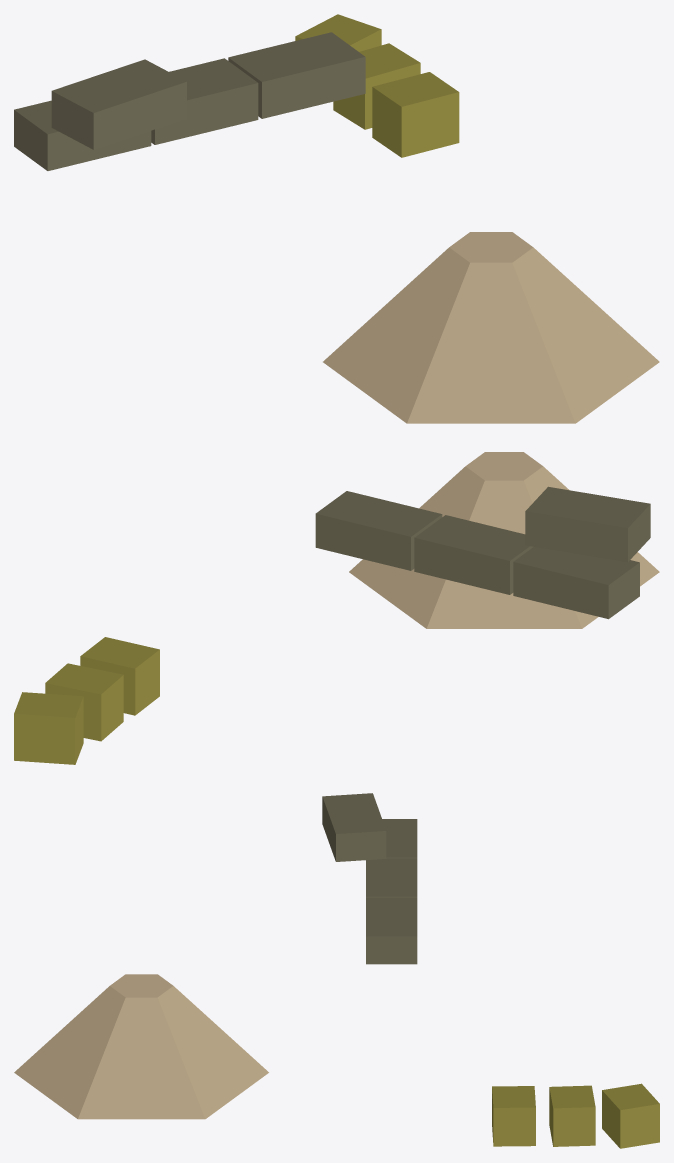
Rendered from SM_ObraSacos_v3_10m_LOD1.fbx.
3 renders of one model, top to bottom at view 1: azimuth 30°, elevation 25°; view 2: azimuth 150°, elevation 25°; view 3: azimuth 270°, elevation 25°, orthographic. The views are drawn at different scales.
Visible parts, largest first — view 1: SM_obra_curso_v7_LOD1; view 2: SM_obra_curso_v7_LOD1; view 3: SM_obra_curso_v7_LOD1.
Part boxes in pixels (bbox=[...]): SM_obra_curso_v7_LOD1: bbox=[14, 14, 659, 423]; SM_obra_curso_v7_LOD1: bbox=[14, 452, 659, 764]; SM_obra_curso_v7_LOD1: bbox=[14, 793, 659, 1148].
Bounding box in the file's own units: 4.12 × 1.8 × 6.07.
